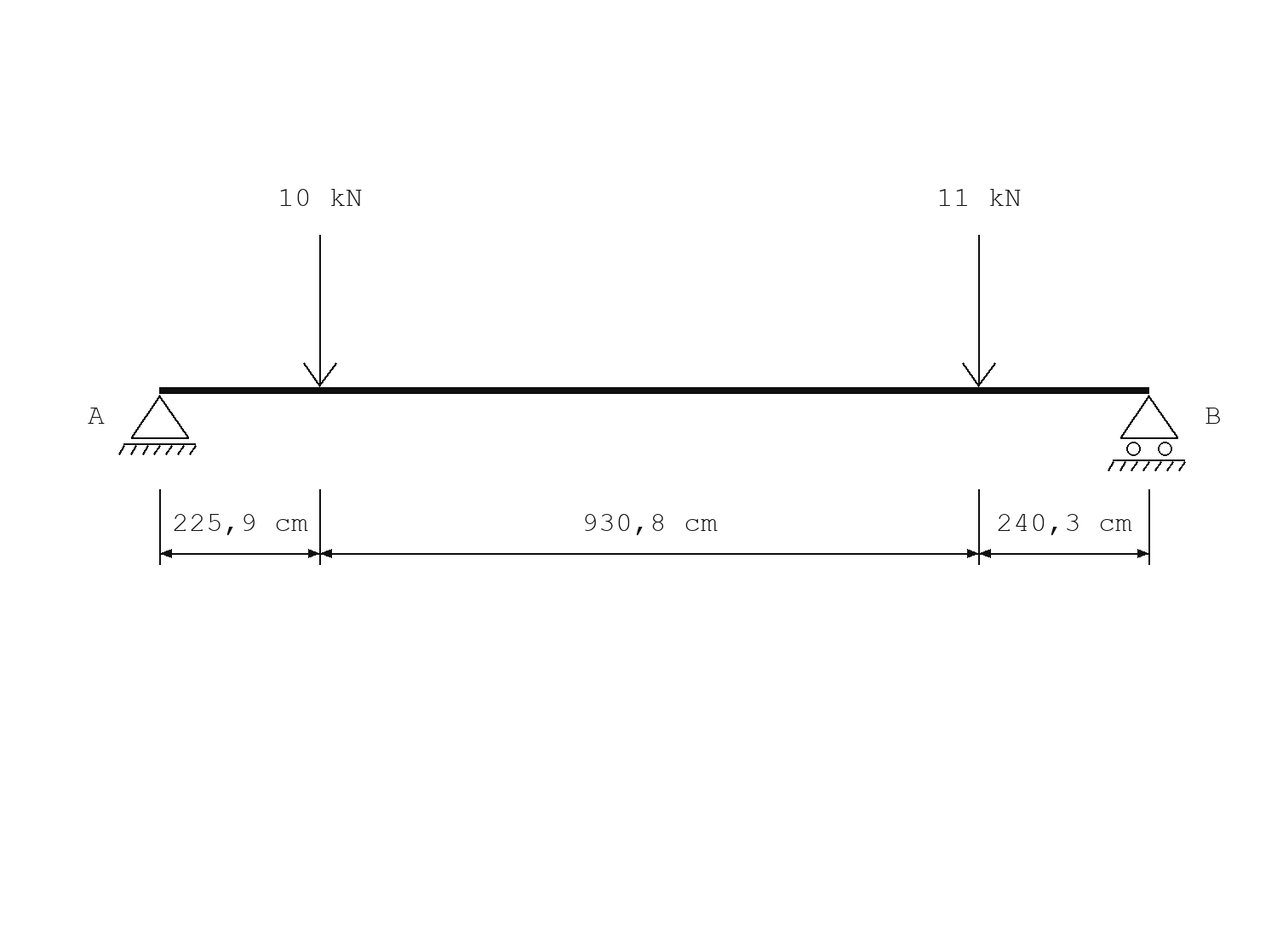pin_support: (118, 395, 197, 455)
point_load: (303, 235, 337, 387), (962, 235, 996, 387)
roller_support: (1108, 395, 1186, 471)
